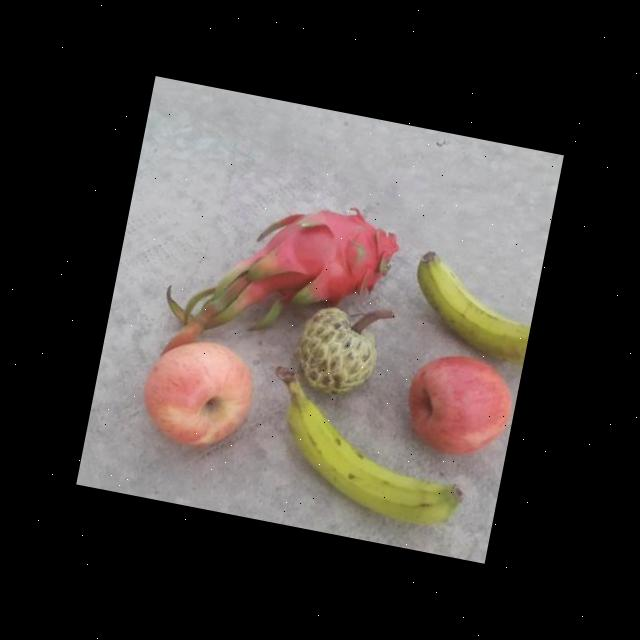Sakya fruit: (286, 294, 395, 402)
apple: (133, 332, 262, 460), (396, 346, 522, 472)
banana: (250, 368, 484, 538), (398, 246, 541, 370)
pitaya: (238, 187, 408, 322)
